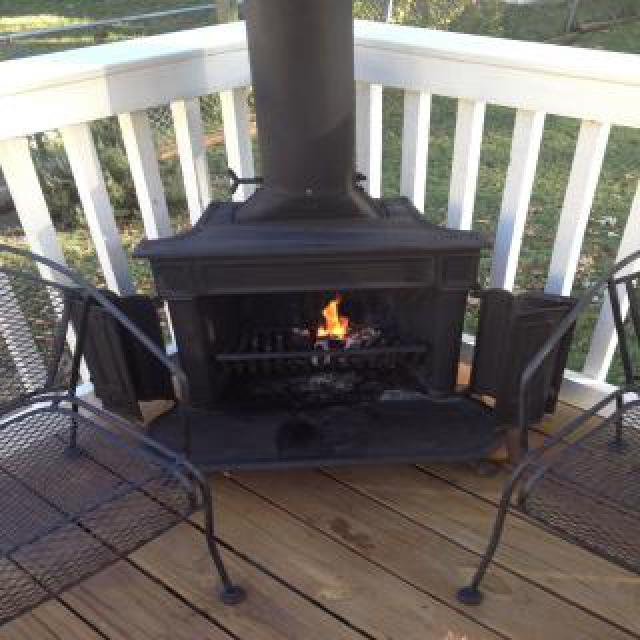Fire: (288, 288, 412, 358)
